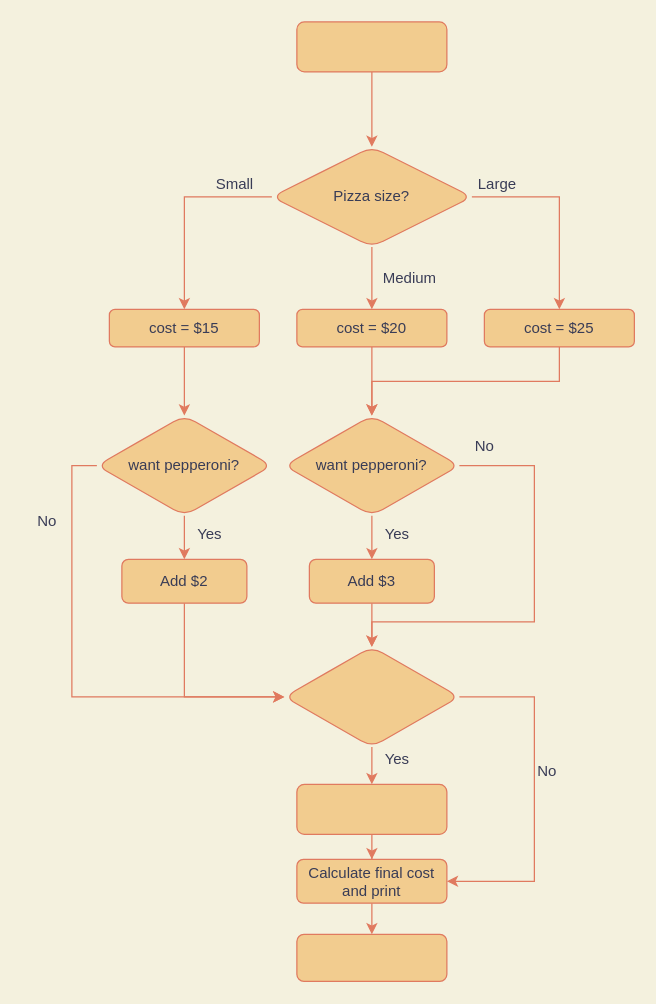
The diagram is 656 pixels wide and 1004 high, and some of its shapes have lost their labels. Here are the shapes that lost their labels. From the top down, the centre of each, then its label:
(x=371, y=46): Start
(x=371, y=696): Want extra cheese?
(x=371, y=808): Add $1
(x=371, y=957): Stop
